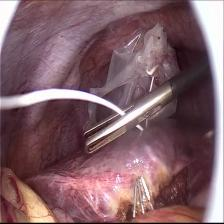Grasper: (82, 106, 156, 156)
Specimen Bag: (83, 20, 190, 115)
